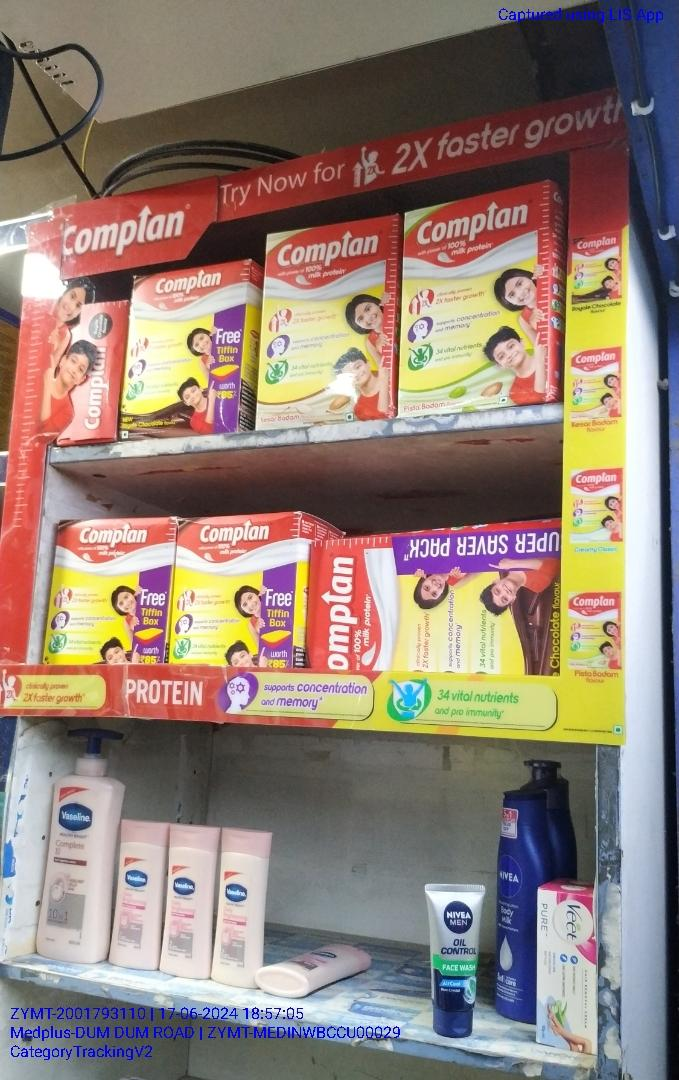COMPLAN_CHOCOLATE_500_GMS_PACK: (119, 260, 247, 438), (173, 518, 294, 665), (49, 516, 164, 665)
COMPLAN_KESAR_BADAM_500_GMS_PACK: (258, 217, 396, 421)
COMPLAN_PISTA_BADAM_500_GMS_PACK: (399, 201, 551, 413)
